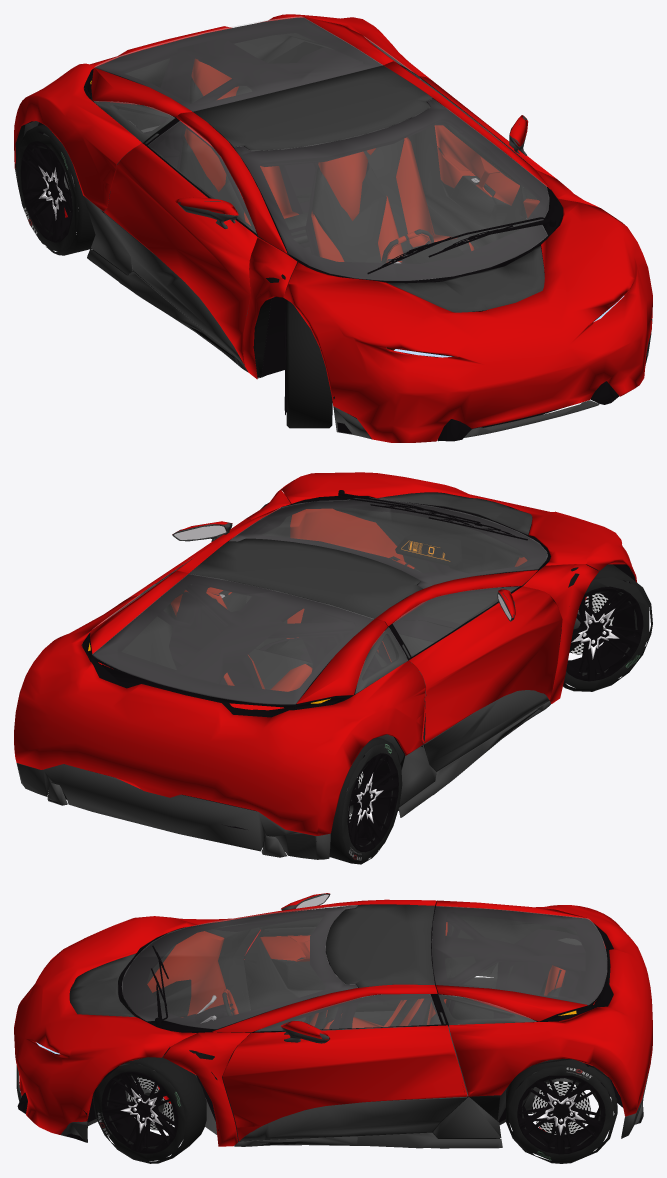
The model's file is car_lo.glb.
3 views of the same model, one above another, from view 1: azimuth 30°, elevation 25°; view 2: azimuth 150°, elevation 25°; view 3: azimuth 270°, elevation 25° (orthographic). The views are drawn at different scales.
Parts seen in each view (by area): view 1: BodyHood, BodyWindshield, BodyRearwindow, BodyDoorRColor1, BodyRearPanelsColor1, BodyRoofPanel, BodyWindshieldGasket, InteriorSeatsColor1, InteriorSeatsColor2, BodyPillars, InteriorPillar, InteriorRearHatch (+21 smaller); view 2: BodyRearPanelsColor1, BodyRearwindow, BodyWindshield, BodyPanelsColor2, BodyDoorRColor1, BodyRoofPanel, BodyHood, InteriorRearHatch, InteriorPillar, BodyPillars, InteriorDashMid, BodyWindshieldGasket (+22 smaller); view 3: BodyRearPanelsColor1, BodyWindshield, BodyDoorLColor1, BodyHood, BodyRearwindow, BodyRoofPanel, BodyPillars, BodyWindshieldGasket, BodyDoorLColor2, BodyPanelsColor2, WheelFrontL, InteriorMid (+25 smaller).
Part boxes in pixels (left/top/right/bottom): BodyHood: left=283, top=199, right=652, bottom=442; BodyWindshield: left=234, top=99, right=548, bottom=280; BodyRearwindow: left=94, top=16, right=382, bottom=111; BodyDoorRColor1: left=104, top=143, right=257, bottom=363; BodyRearPanelsColor1: left=14, top=14, right=430, bottom=211; BodyRoofPanel: left=193, top=65, right=432, bottom=150; BodyWindshieldGasket: left=234, top=99, right=563, bottom=283; InteriorSeatsColor1: left=184, top=58, right=474, bottom=262; InteriorSeatsColor2: left=179, top=78, right=471, bottom=262; BodyPillars: left=176, top=61, right=598, bottom=379; InteriorPillar: left=159, top=37, right=434, bottom=168; InteriorRearHatch: left=93, top=17, right=382, bottom=119; BodyRearPanelsColor1: left=14, top=570, right=425, bottom=835; BodyRearwindow: left=92, top=574, right=373, bottom=704; BodyWindshield: left=230, top=498, right=547, bottom=588; BodyPanelsColor2: left=16, top=701, right=550, bottom=859; BodyDoorRColor1: left=409, top=586, right=562, bottom=743; BodyRoofPanel: left=189, top=538, right=422, bottom=618; BodyHood: left=278, top=472, right=636, bottom=582; InteriorRearHatch: left=93, top=574, right=373, bottom=708; InteriorPillar: left=173, top=576, right=417, bottom=798; BodyPillars: left=174, top=490, right=598, bottom=703; InteriorDashMid: left=333, top=508, right=528, bottom=624; BodyWindshieldGasket: left=230, top=498, right=550, bottom=588; BodyRearPanelsColor1: left=436, top=900, right=652, bottom=1116; BodyWindshield: left=122, top=905, right=357, bottom=1028; BodyDoorLColor1: left=222, top=1025, right=467, bottom=1140; BodyHood: left=14, top=916, right=196, bottom=1134; BodyRearwindow: left=432, top=906, right=607, bottom=1004; BodyRoofPanel: left=326, top=904, right=434, bottom=987; BodyPillars: left=163, top=899, right=437, bottom=1146; BodyWindshieldGasket: left=118, top=905, right=357, bottom=1032; BodyDoorLColor2: left=239, top=1096, right=467, bottom=1141; BodyPanelsColor2: left=16, top=1062, right=650, bottom=1148; WheelFrontL: left=93, top=1055, right=206, bottom=1163; InteriorMid: left=182, top=918, right=500, bottom=1144.
Size of the model in its own units: 2.54 by 1.15 by 4.35.
Materials: 22 (5 with a texture image).
